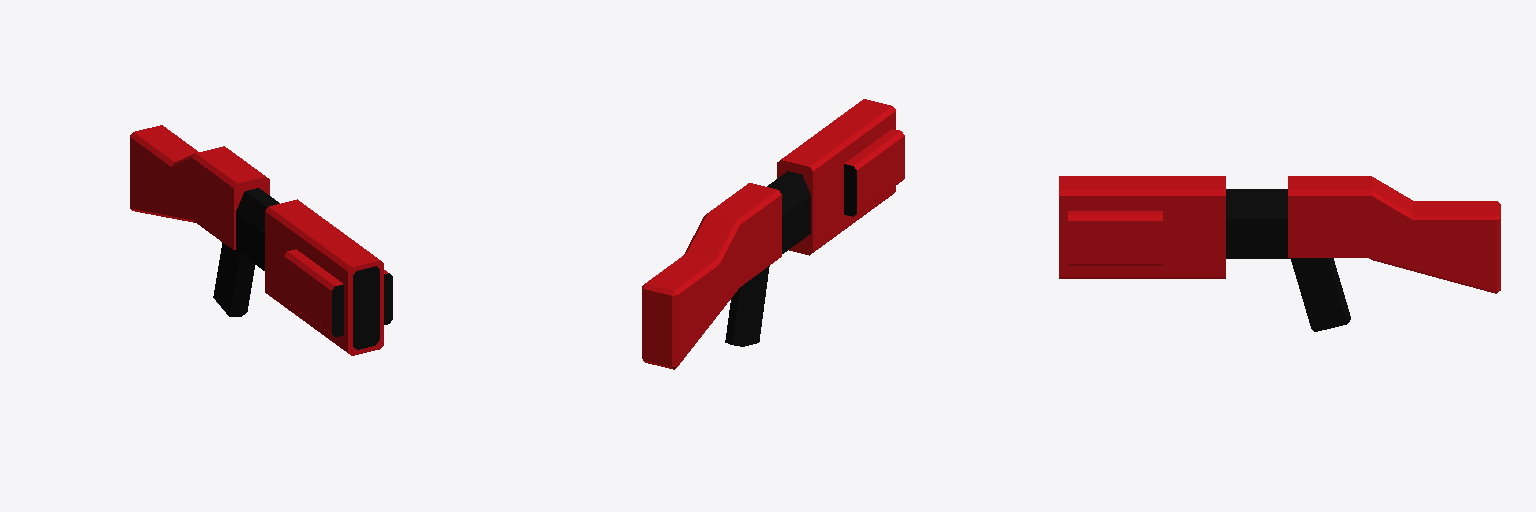
Rendered from 0x10c_Rife.obj.
The picture shows the model from 3 angles: view 1: azimuth 30°, elevation 25°; view 2: azimuth 150°, elevation 25°; view 3: azimuth 270°, elevation 25°; orthographic projection.
Visible parts, largest first — view 1: Cube; view 2: Cube; view 3: Cube.
Boxes of the visible parts, <box> form: Cube: <box>130,125,392,355</box>; Cube: <box>642,99,904,369</box>; Cube: <box>1059,176,1500,331</box>.
Bounding box in the file's own units: 3.4 × 7.71 × 21.2.